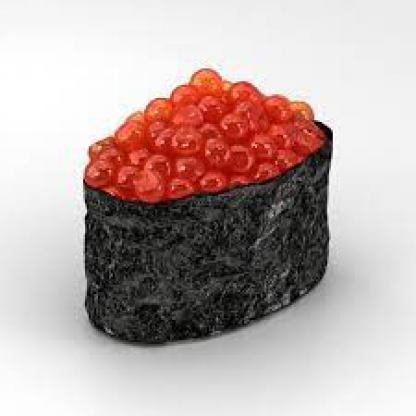ikura: (56, 65, 341, 364)
